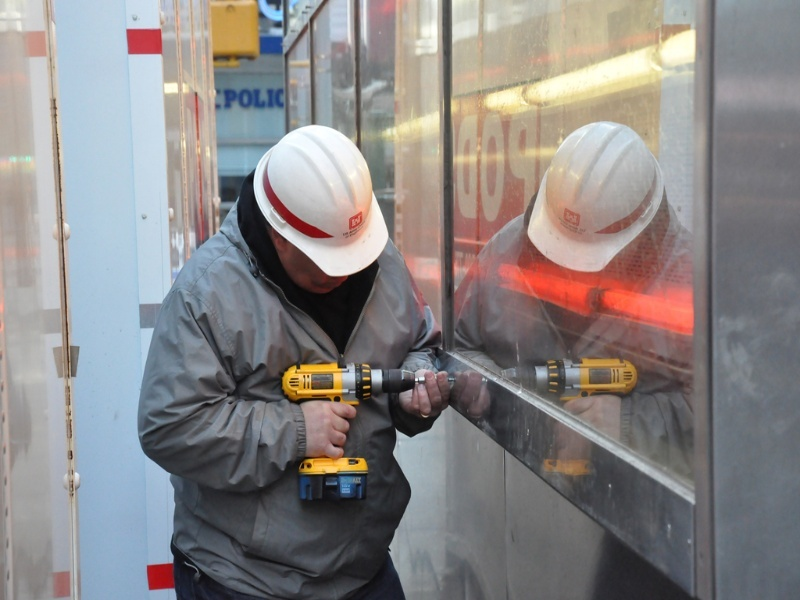Baret: (526, 118, 670, 275), (255, 124, 394, 280)
